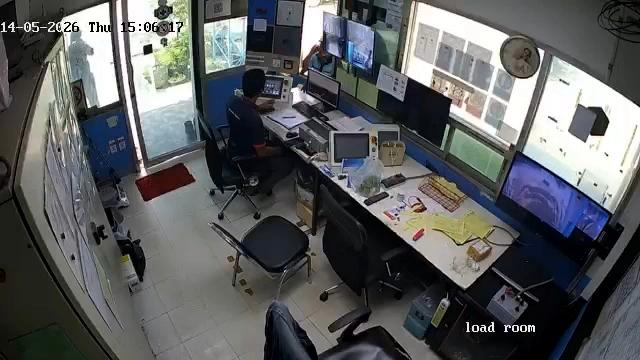Head: (241, 68, 267, 98)
People: (225, 68, 299, 198)
Phone: (258, 107, 276, 115)
